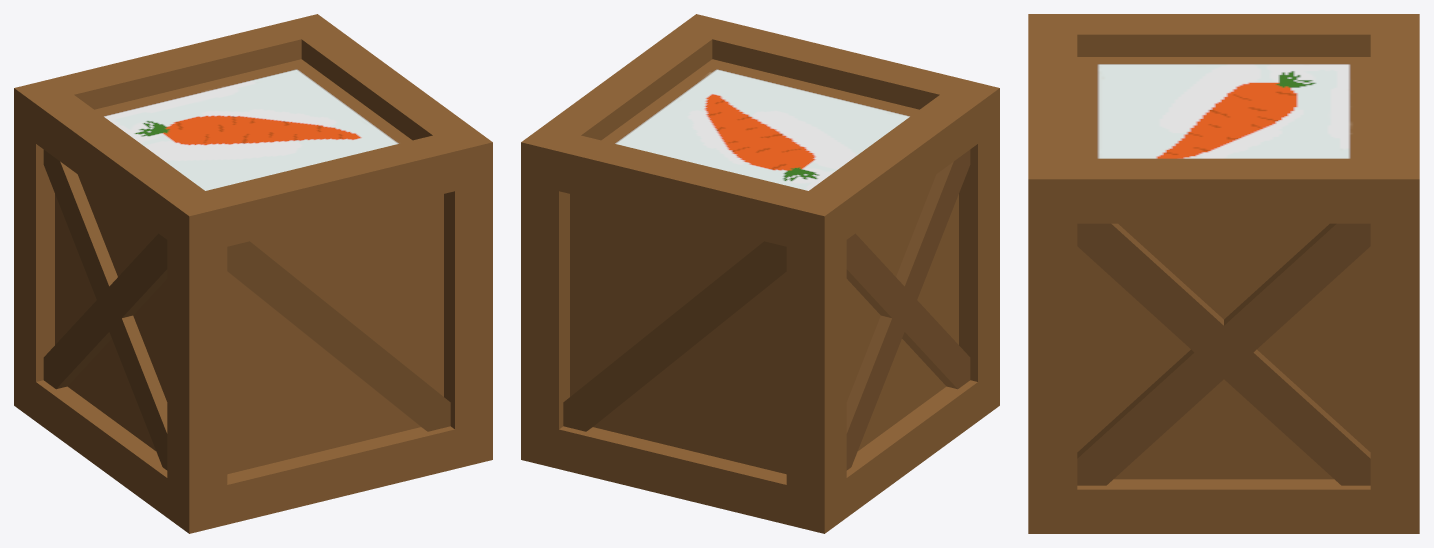
Rendered from Crate.fbx.
3 renders of one model, left to right at view 1: azimuth 30°, elevation 25°; view 2: azimuth 150°, elevation 25°; view 3: azimuth 270°, elevation 25°, orthographic. The views are drawn at different scales.
Visible parts, largest first — view 1: Cube, Cube.002, Cube.004; view 2: Cube, Cube.002, Cube.001; view 3: Cube, Cube.005.
Part boxes in pixels (x1=…): Cube: x1=14, y1=14, x2=492, y2=533; Cube.002: x1=43, y1=150, x2=167, y2=470; Cube.004: x1=227, y1=241, x2=450, y2=431; Cube: x1=521, y1=14, x2=999, y2=533; Cube.002: x1=846, y1=150, x2=970, y2=470; Cube.001: x1=563, y1=241, x2=786, y2=431; Cube: x1=1028, y1=14, x2=1419, y2=533; Cube.005: x1=1077, y1=223, x2=1370, y2=485.
Size of the model in its own units: 40 by 40 by 40.
2 materials, 1 textured.
